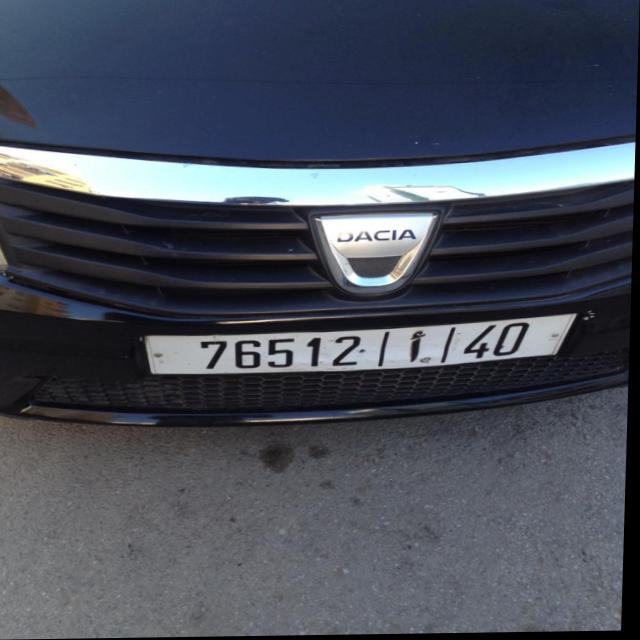License-Plate: (147, 316, 577, 376)
